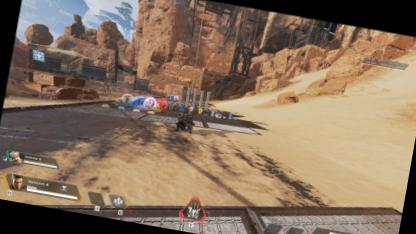Target: (174, 105, 198, 133)
